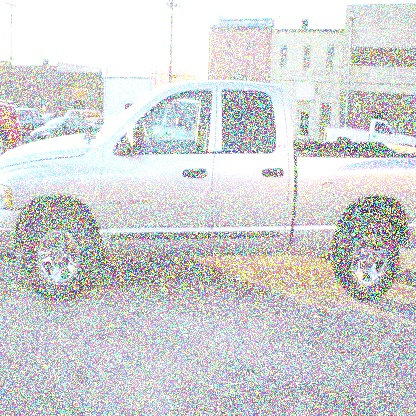Vehicle: (1, 82, 415, 300)
